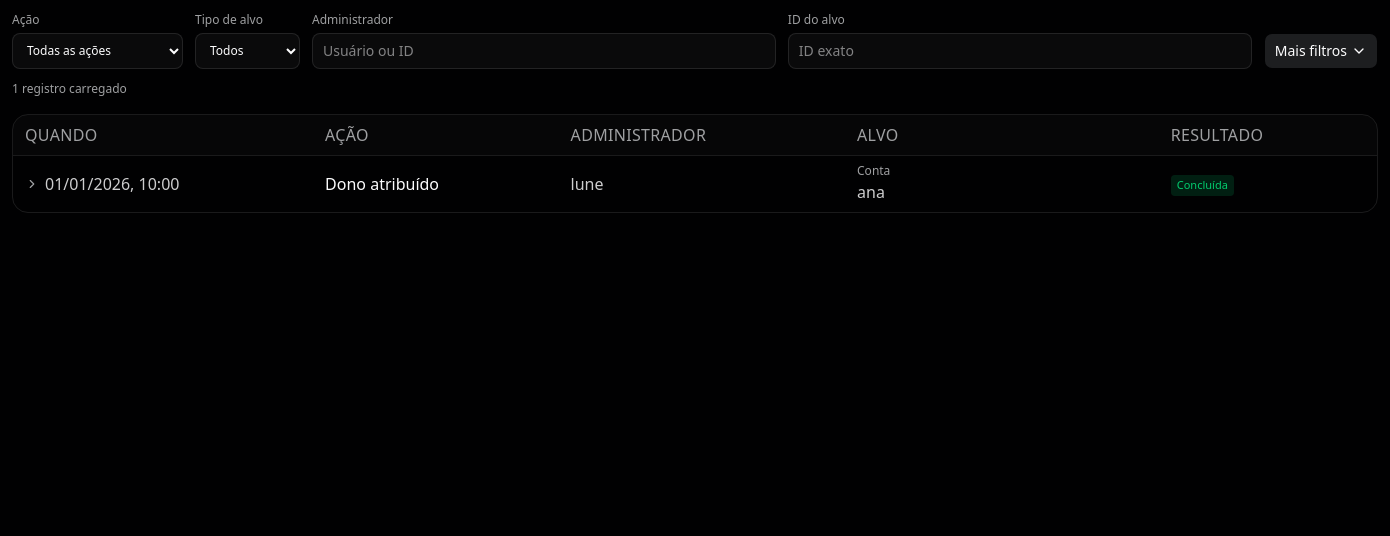
Test: AuditPage › known metadata becomes labelled rows; nested data stays behind "dados brutos", cut when huge
What coordinates should you click on to do the following:
click the button named "detalhes de"
I would click on:
 (102, 184)
Its box is [25,172,180,196].
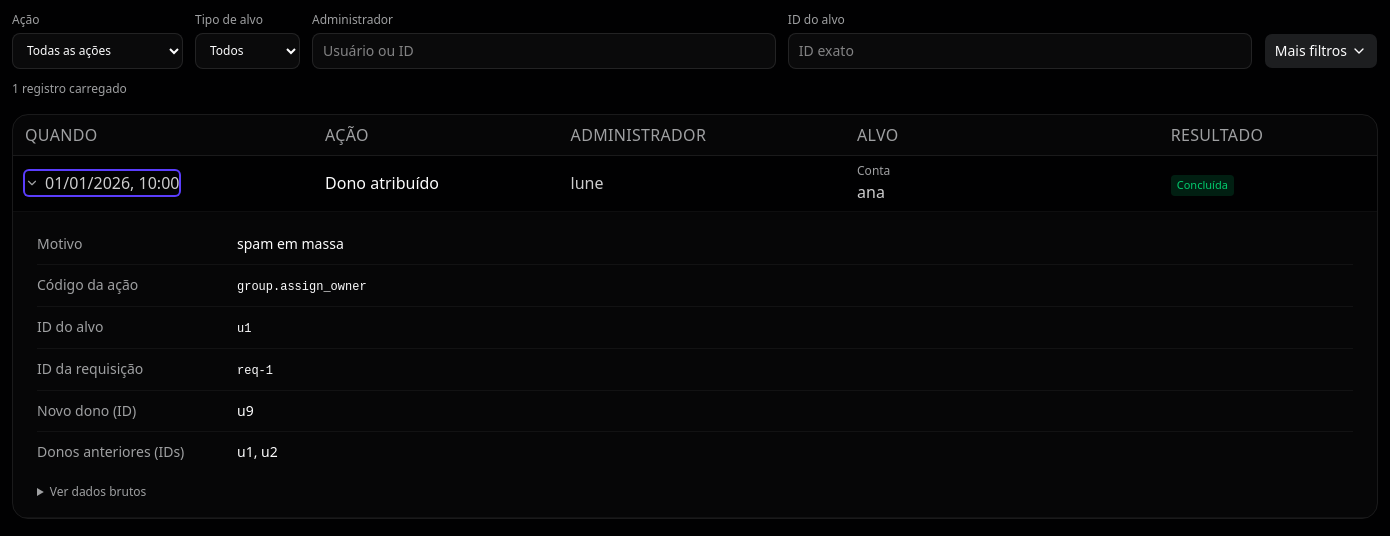
Expected: the text "Novo dono (ID)" is shown, [37,401,136,420]
Expected: the text "u9" is shown, [237,401,254,420]
Expected: the text "u1, u2" is shown, [237,442,278,461]
